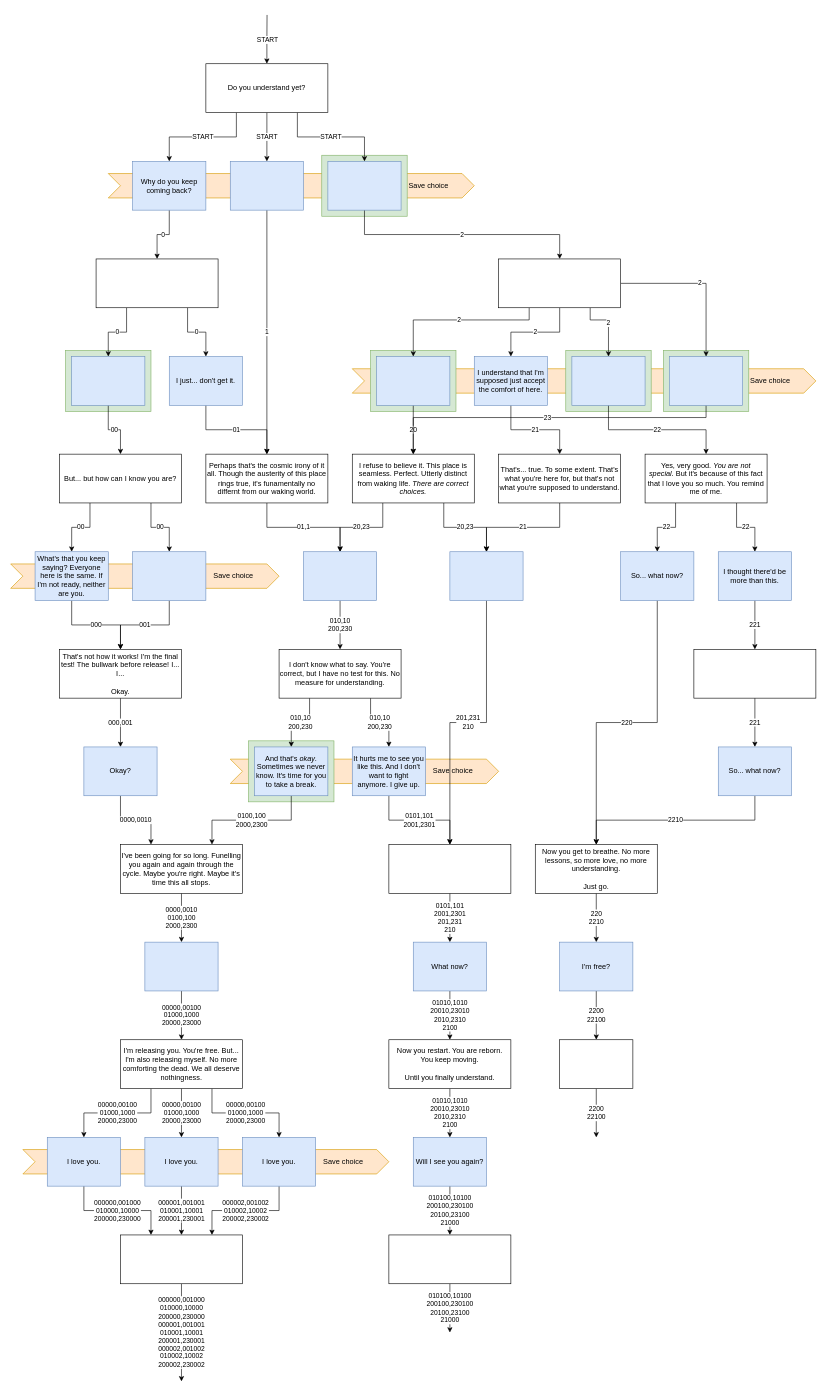
Some shapes in this 827 by 1397 pixel diagram are drawn without their labels. Here are the shapes that lost their labels. From the top down, the centre of each, then its label:
At point 266,185: "No, I never really did.".
At point 364,185: "I actually do.".
At point 156,283: "I need to know if you're ready to move on.".
At point 559,283: "Please, illuminate me. While subjective, there are correct answers.".
At point 108,380: "I really, truly am.".
At point 413,380: "No there aren't.".
At point 608,380: "I understand that fundamentally, we're no different.".
At point 706,380: "I understand that this place is truly no different from life.".
At point 169,576: "You can't. You'll just have to trust me.".
At point 340,576: "I still feel the same.".
At point 486,576: "Oh. Okay. I thought I had it.".
At point 754,673: "I understand. It's okay. It's a difficuly thing to come to terms with.".
At point 449,868: "You were truly and utterly so close.".
At point 181,966: "So... what happens now?".
At point 596,1064: "You're free.".
At point 181,1259: "I love you too.".
At point 449,1259: "Most undoubtedly. And remember, keep moving.".
